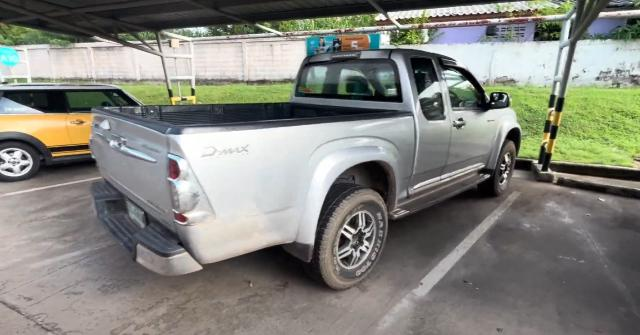pickup-truck: (89, 47, 520, 292)
